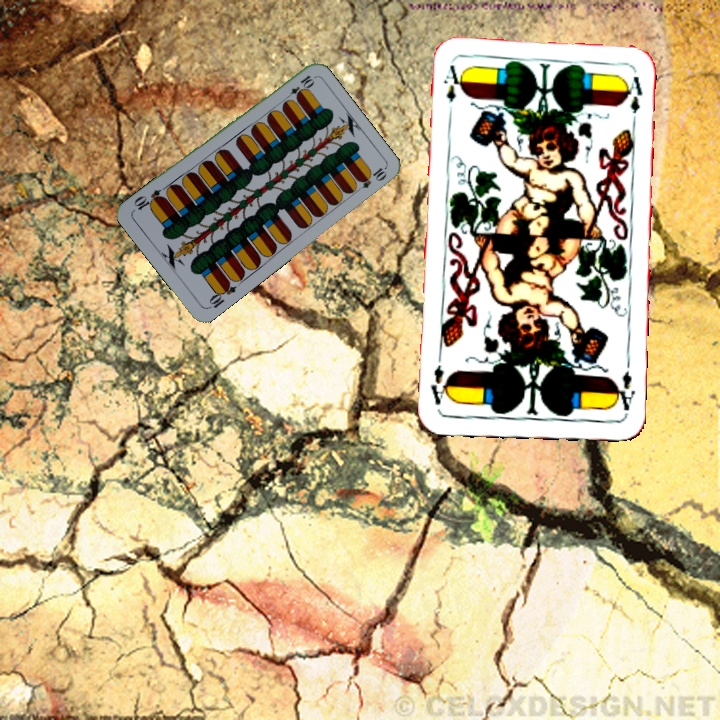E10: (204, 277, 239, 311), (281, 71, 316, 103)
EA: (610, 367, 638, 415), (439, 61, 461, 105)
